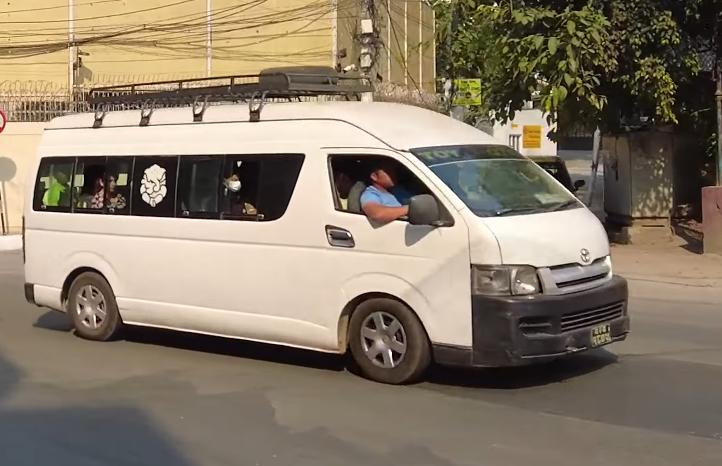micro_bus: (15, 76, 633, 388)
